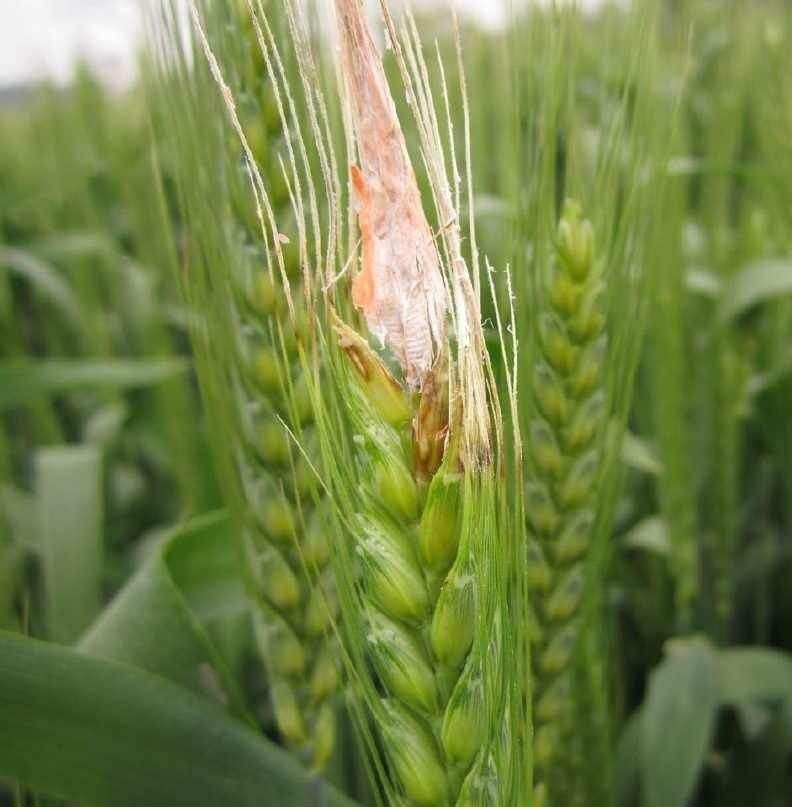Wheat scab: (308, 25, 534, 801)
